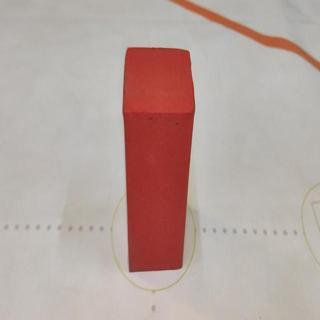redbox: (121, 45, 197, 274)
